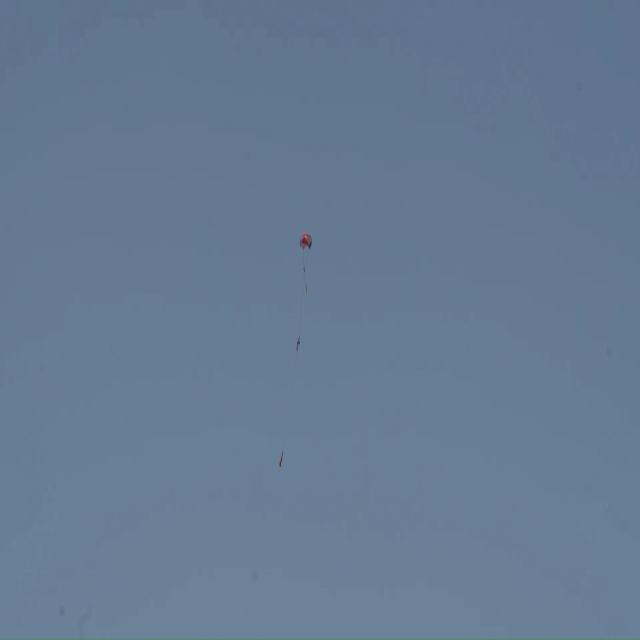Rocket: (278, 451, 284, 467)
